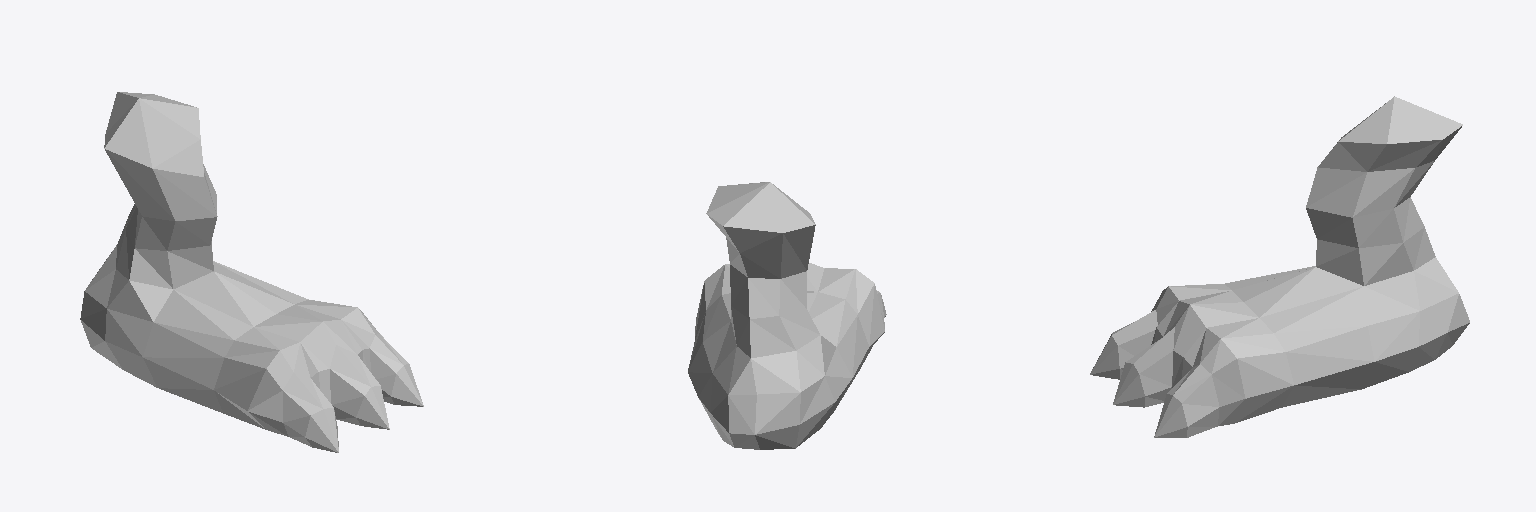
File: left_leg-25_agumon_classic.blend.obj
3 renders of one model, left to right at view 1: azimuth 30°, elevation 25°; view 2: azimuth 150°, elevation 25°; view 3: azimuth 270°, elevation 25°, orthographic.
Visible parts, largest first — view 1: left_leg-25_agumon_classic.blend_Agumon.004; view 2: left_leg-25_agumon_classic.blend_Agumon.004; view 3: left_leg-25_agumon_classic.blend_Agumon.004.
Part boxes in pixels (bbox=[...]): left_leg-25_agumon_classic.blend_Agumon.004: bbox=[80, 92, 423, 452]; left_leg-25_agumon_classic.blend_Agumon.004: bbox=[688, 182, 886, 449]; left_leg-25_agumon_classic.blend_Agumon.004: bbox=[1090, 96, 1469, 437].
Bounding box in the file's own units: 0.3546 × 0.4053 × 0.5365.